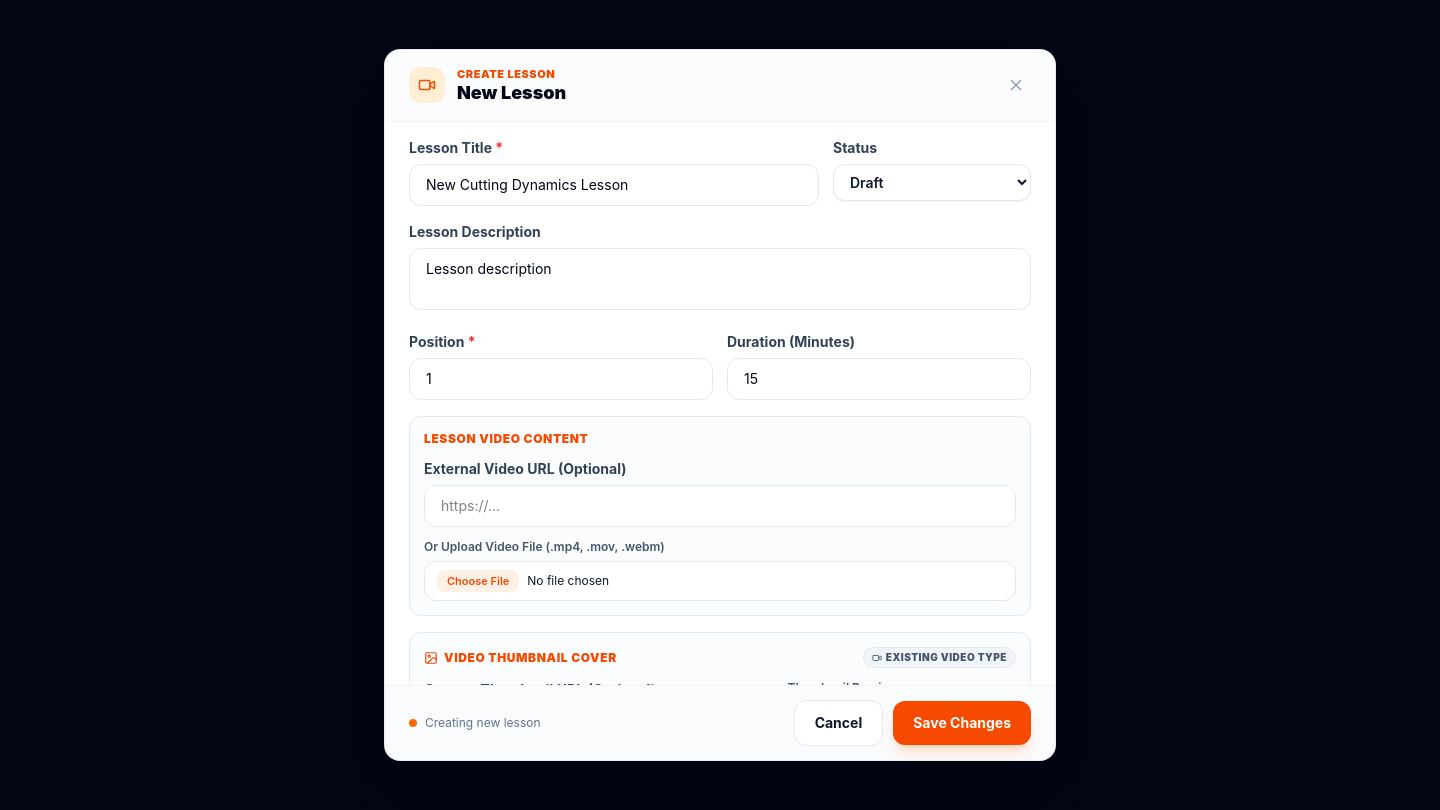
Test: ModuleLessonModal Video Thumbnail Provision › automatically detects YouTube video URL and displays existing type YouTube cover preview
Type "https://www.youtube.com/watch?v=dQw4w9WgXcQ" into the field labelled "External Video URL (Optional)" at (720, 506), box [424,485,1016,527]
(page scrolled)
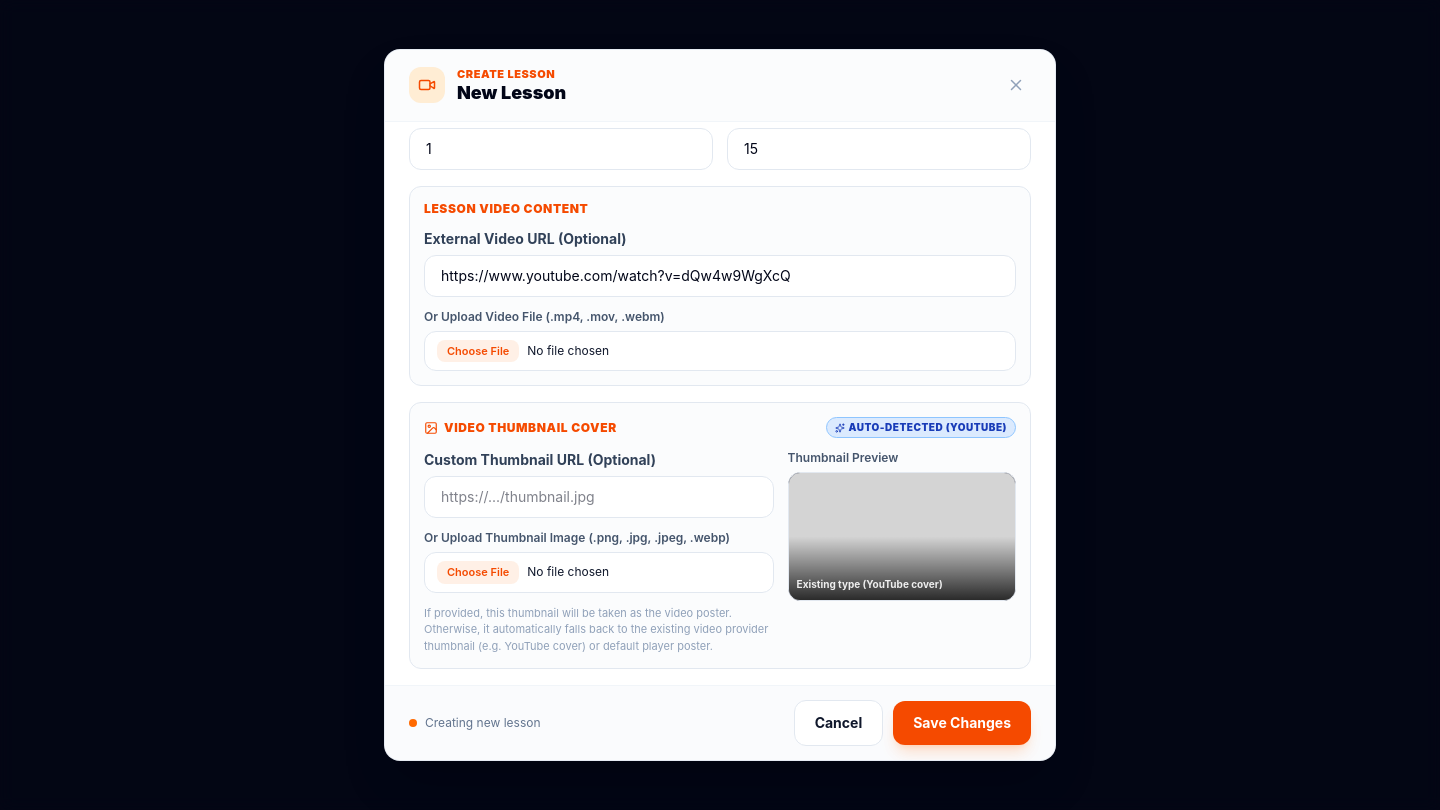
Result: the text "Auto-detected (YouTube)" is shown at [826,417,1016,438]
Result: the text "Existing type (YouTube cover)" is shown at [797,578,943,590]
